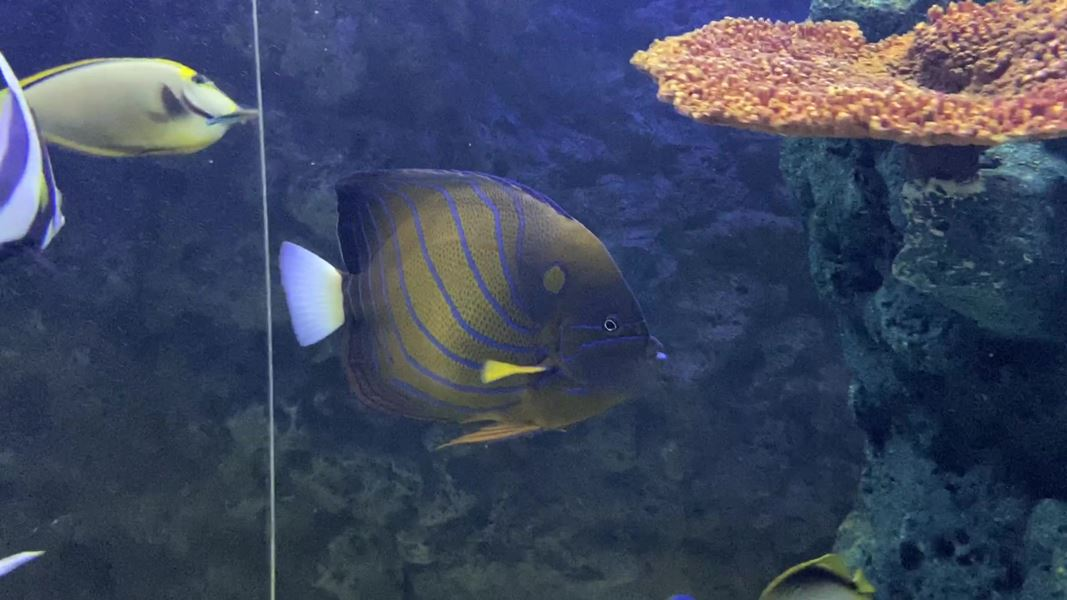Blue ring angelfish: (248, 161, 694, 465)
